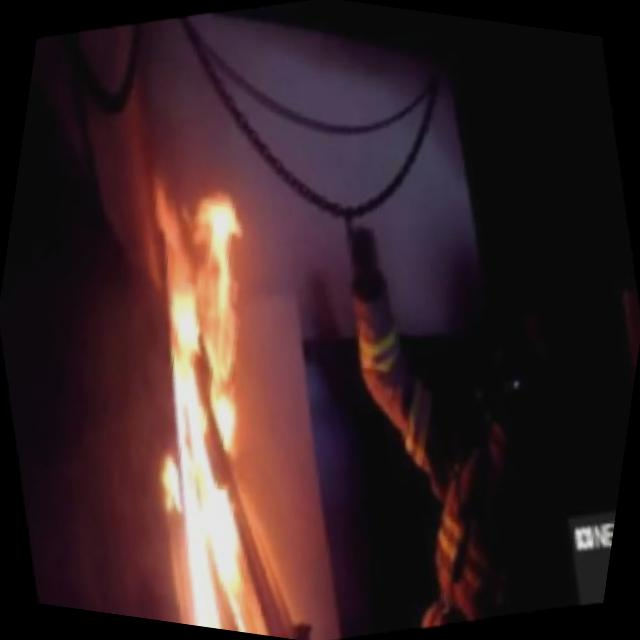fire: (47, 133, 391, 640)
